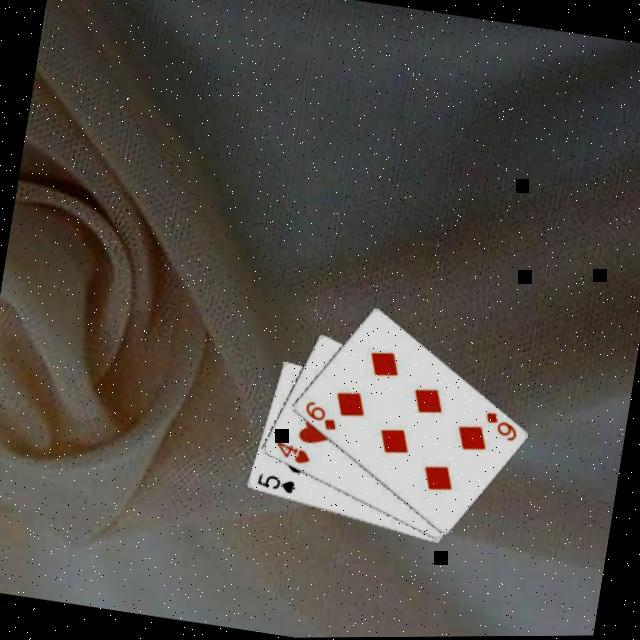4H: (270, 438, 314, 469)
5S: (252, 471, 298, 499)
6D: (478, 409, 523, 447), (298, 398, 341, 436)
